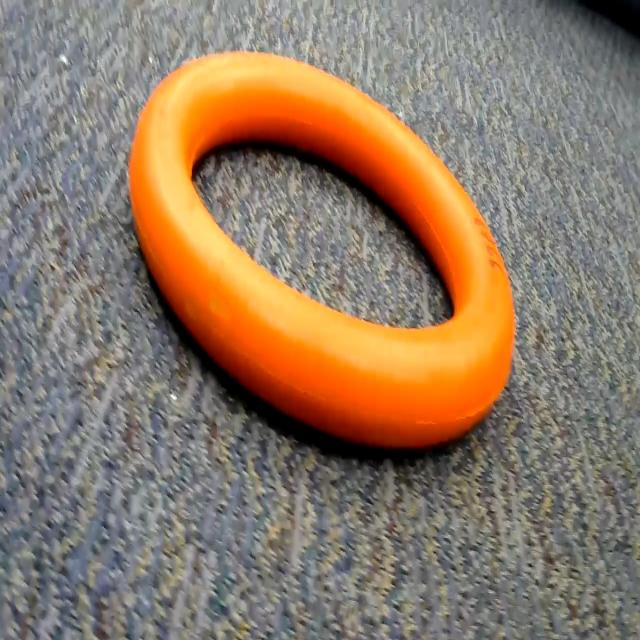note: (120, 44, 538, 499)
